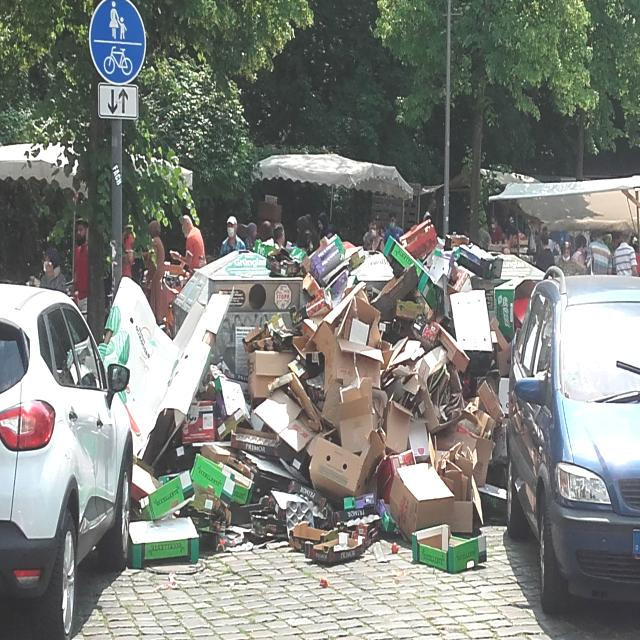garbage: (73, 209, 547, 601)
